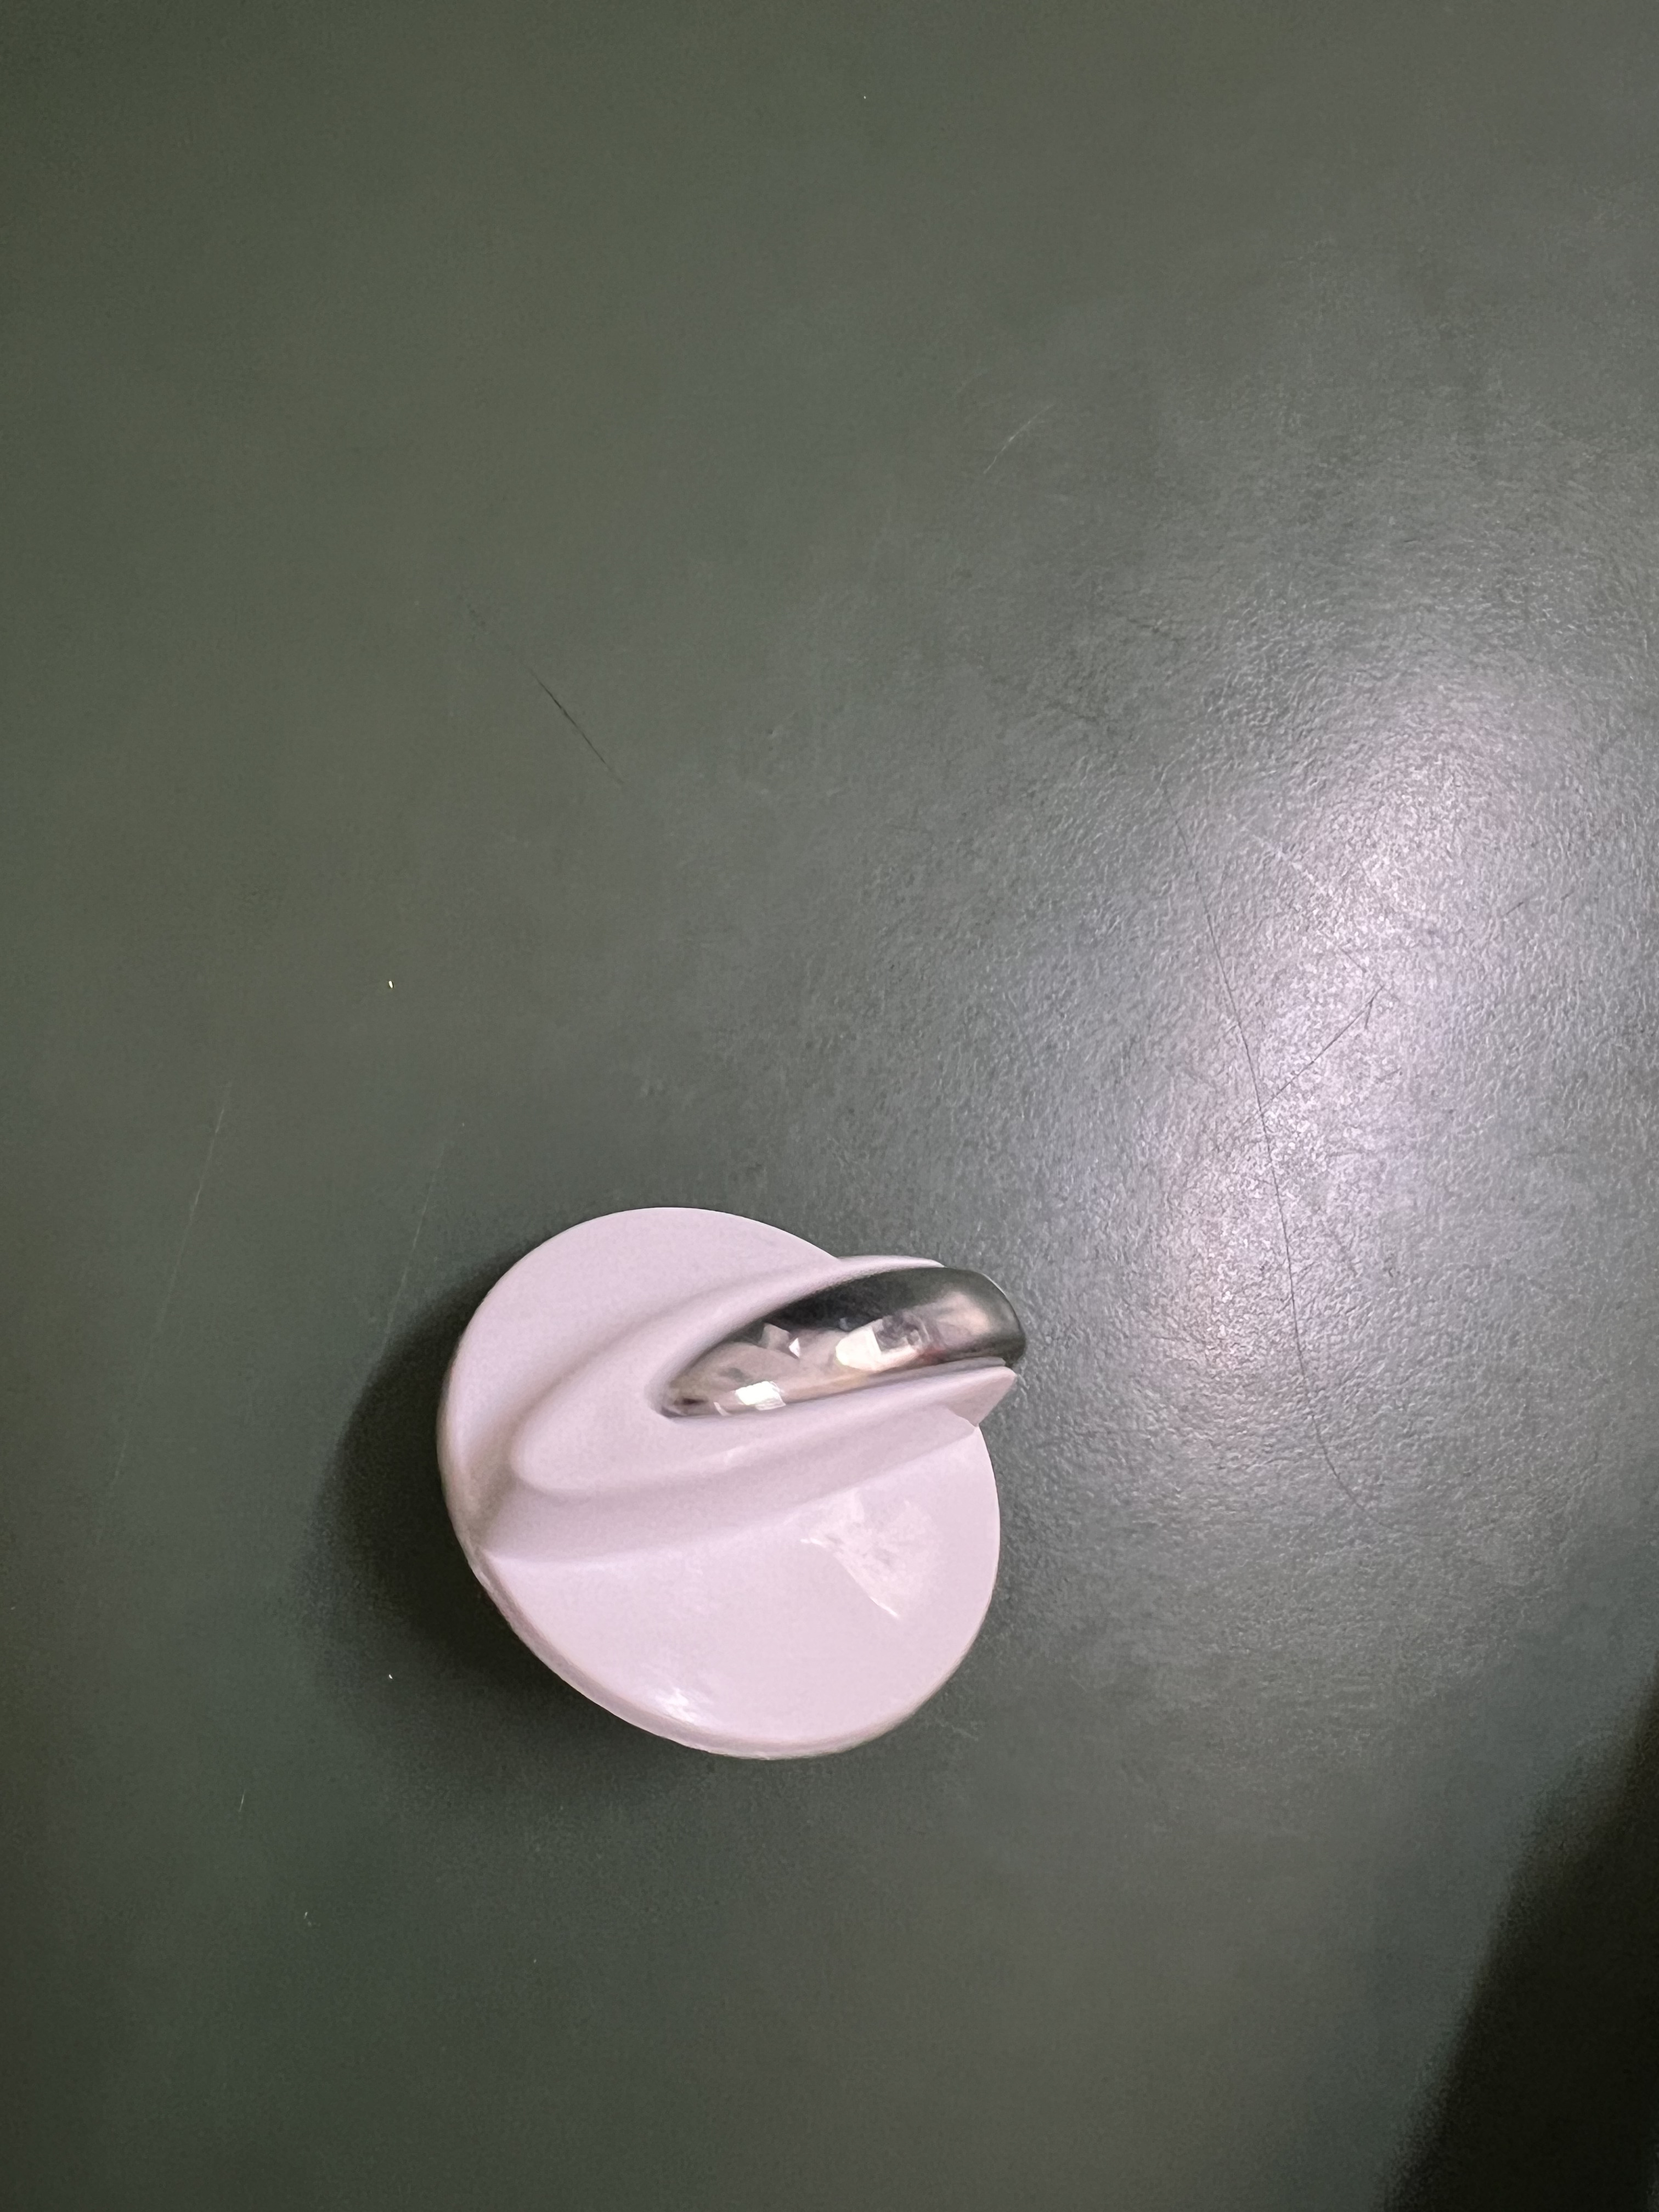regulator: (423, 1186, 1025, 1749)
